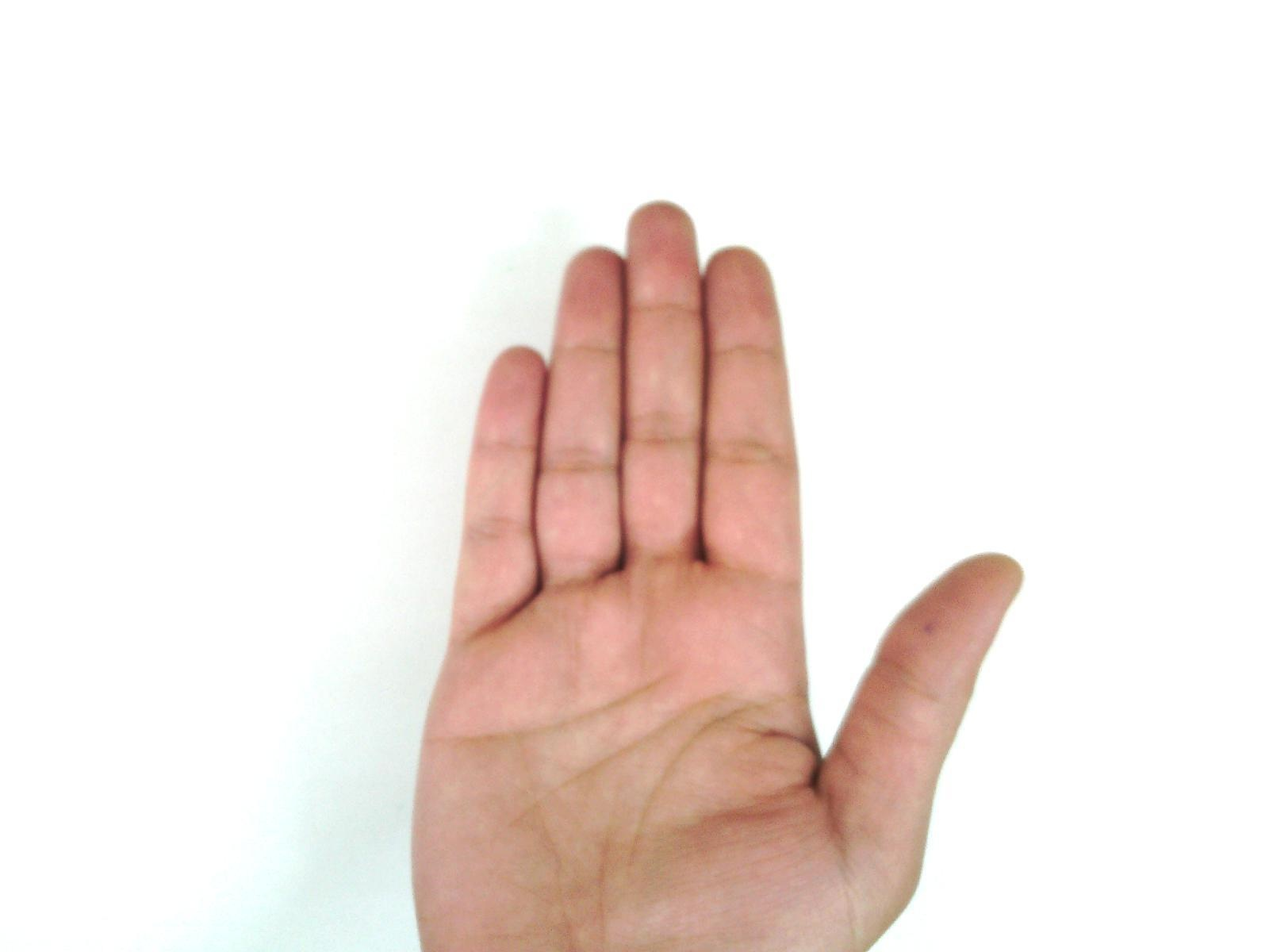open_palm: (406, 200, 1026, 951)
